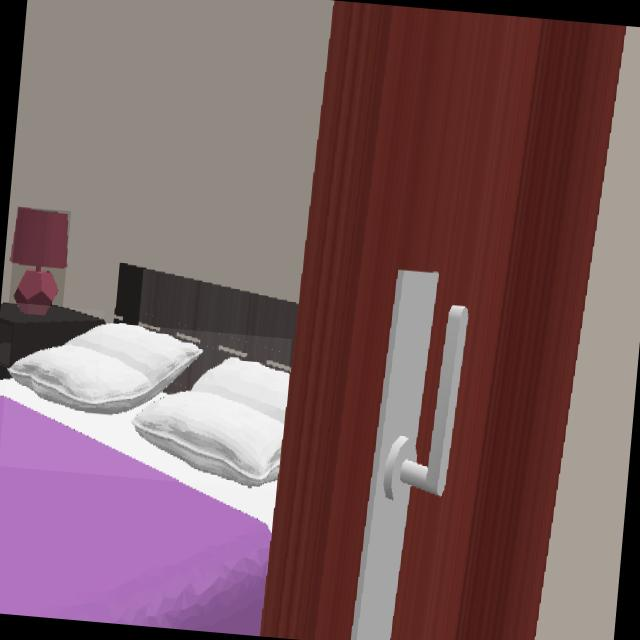bed: (0, 384, 275, 636)
lamp: (12, 207, 68, 321)
nighttable: (0, 305, 103, 380)
pillow: (6, 323, 288, 487)
